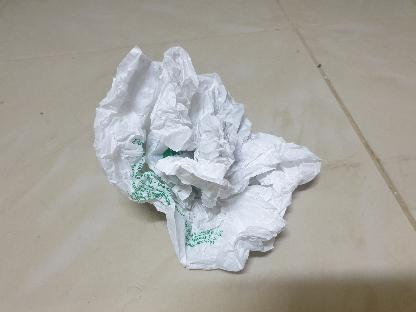Plastic Bag: (95, 45, 323, 274)
